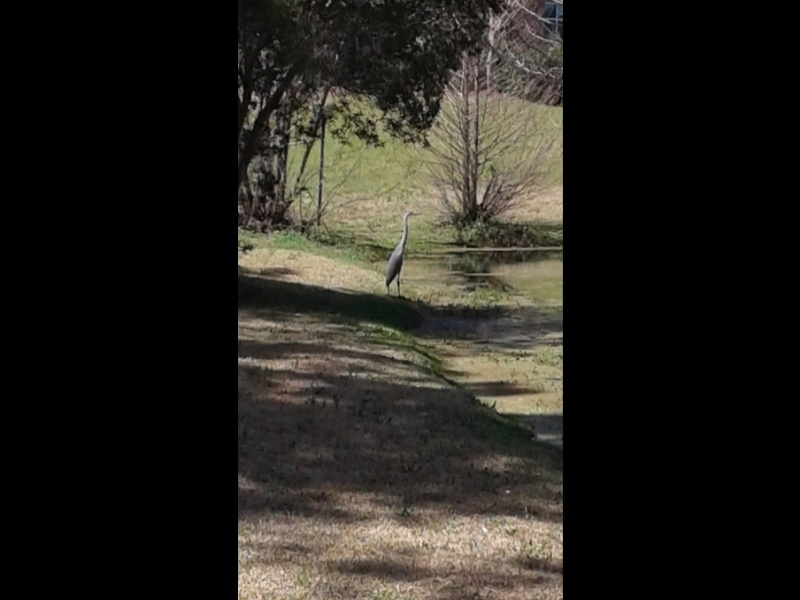heron: (381, 208, 419, 305)
